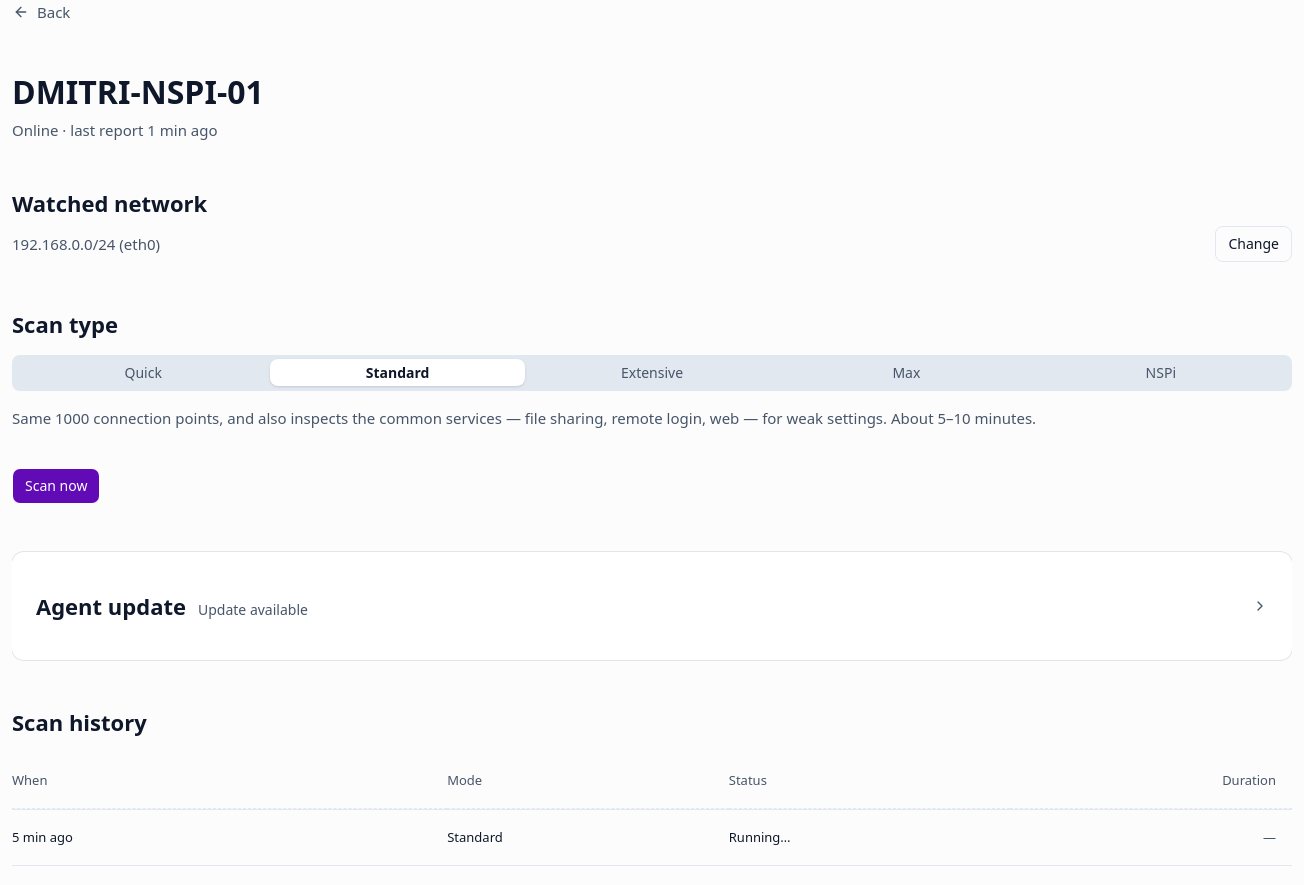
it: Device update section › starts collapsed, notes an available update, and sits between scan and history
Expected: the text with test id "agent-update-available-note" reads "Update available", [198,600,308,619]
Click the button with test id "agent-update-toggle". click: point(111, 606)
box: [12,576,1292,636]
(page scrolled)
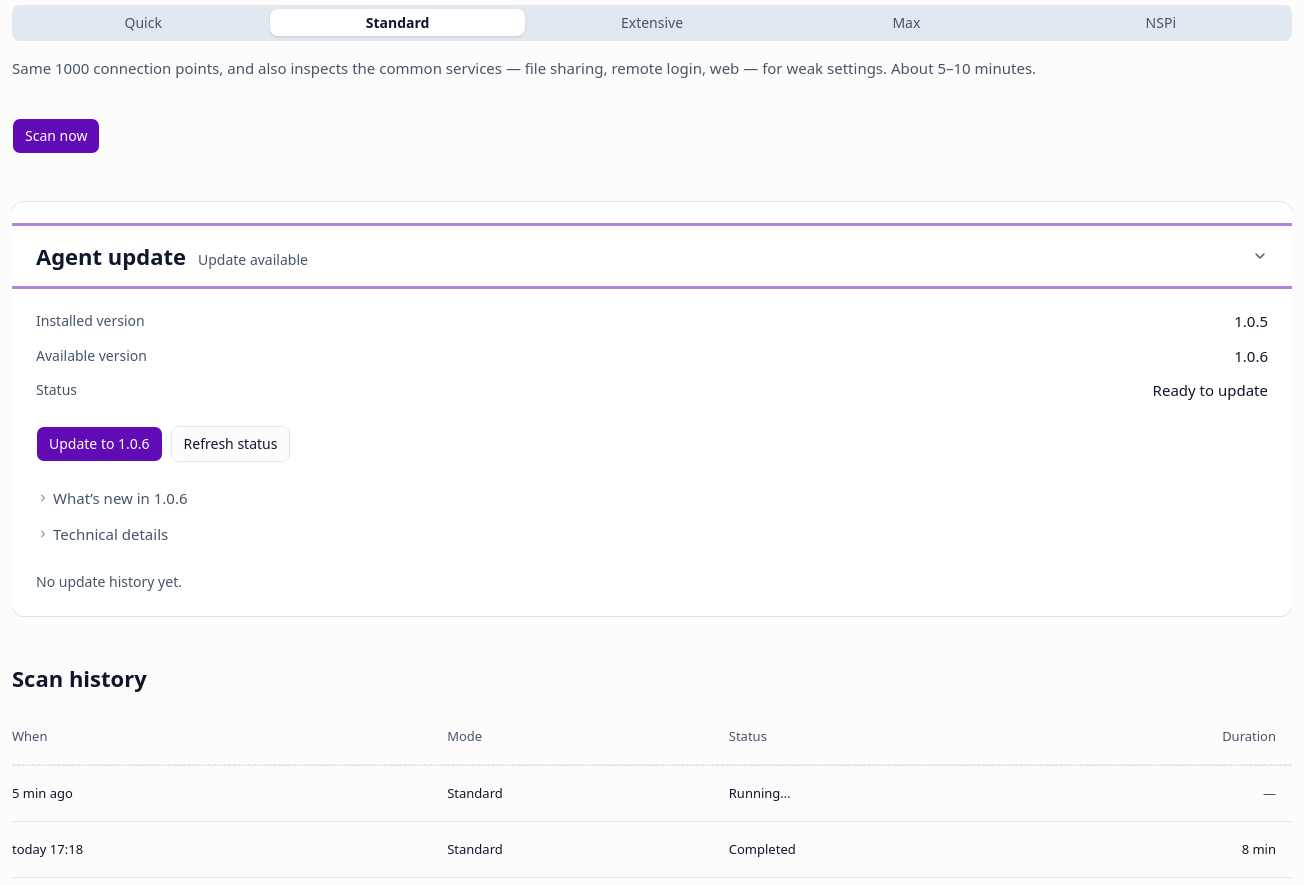
Expected: the button with test id "agent-update-toggle" is expanded, [12,226,1292,286]
